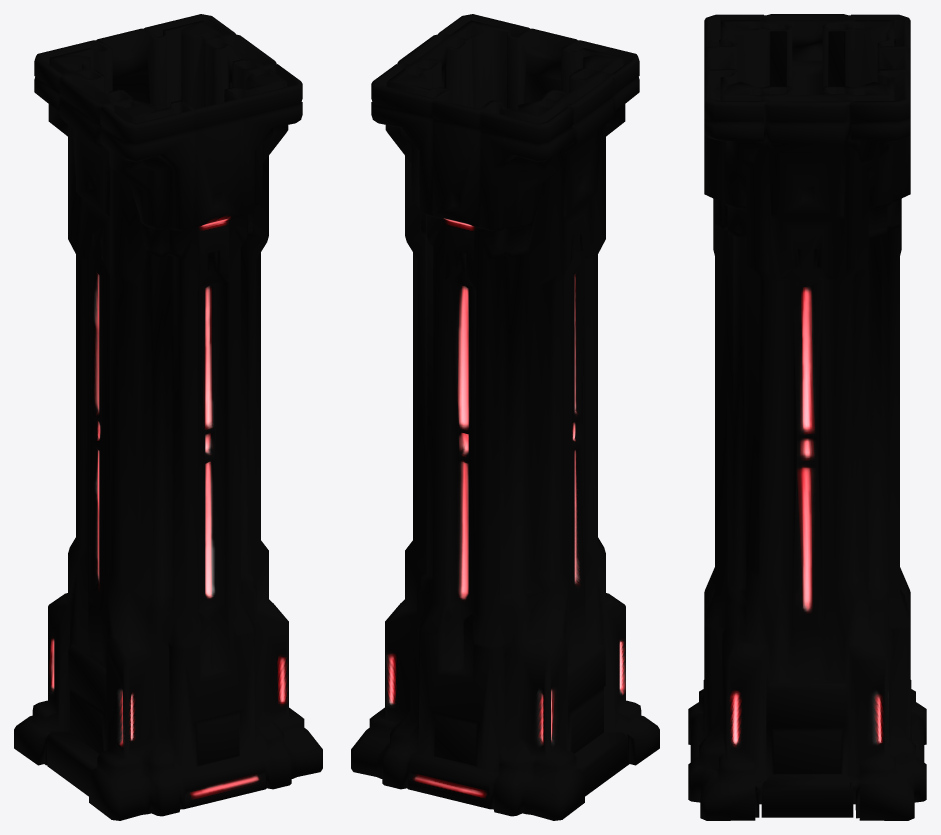
Rendered from VAL_Pillar_Em_FINAL.glb.
3 renders of one model, left to right at view 1: azimuth 30°, elevation 25°; view 2: azimuth 150°, elevation 25°; view 3: azimuth 270°, elevation 25°, orthographic. The views are drawn at different scales.
Parts seen in each view (by area): view 1: pillar; view 2: pillar; view 3: pillar.
Boxes of the visible parts, x1,y1,x2,y2 form: pillar: (14, 14, 322, 820); pillar: (351, 14, 659, 820); pillar: (688, 14, 926, 820).
Bounding box in the file's own units: 1.28 × 4 × 1.22.
1 material, 1 textured.
